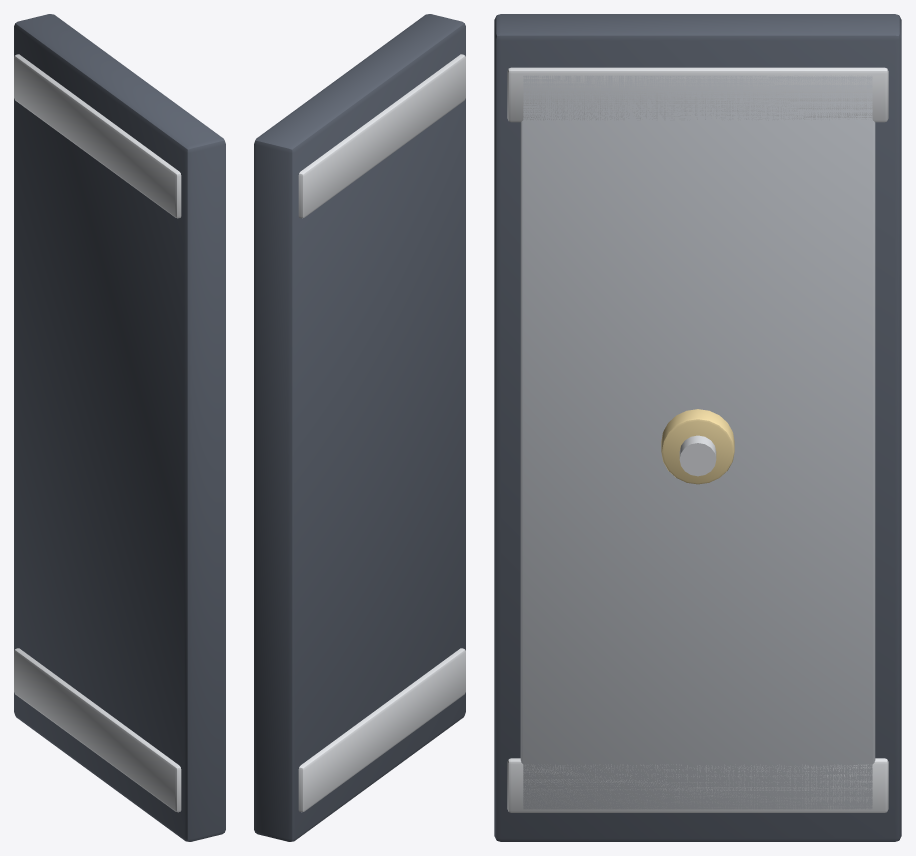
The model's file is standing_clamp.glb.
The picture shows the model from 3 angles, left to right: view 1: azimuth 30°, elevation 25°; view 2: azimuth 150°, elevation 25°; view 3: azimuth 270°, elevation 25°; orthographic projection. The views are drawn at different scales.
Visible parts, largest first — view 1: Cube; view 2: Cube; view 3: Cube.
Boxes of the visible parts, x1,y1,x2,y2 form: Cube: (14,14,225,841); Cube: (254,14,465,841); Cube: (494,14,901,841).
Size of the model in its own units: 0.83 by 6.8 by 3.1.
